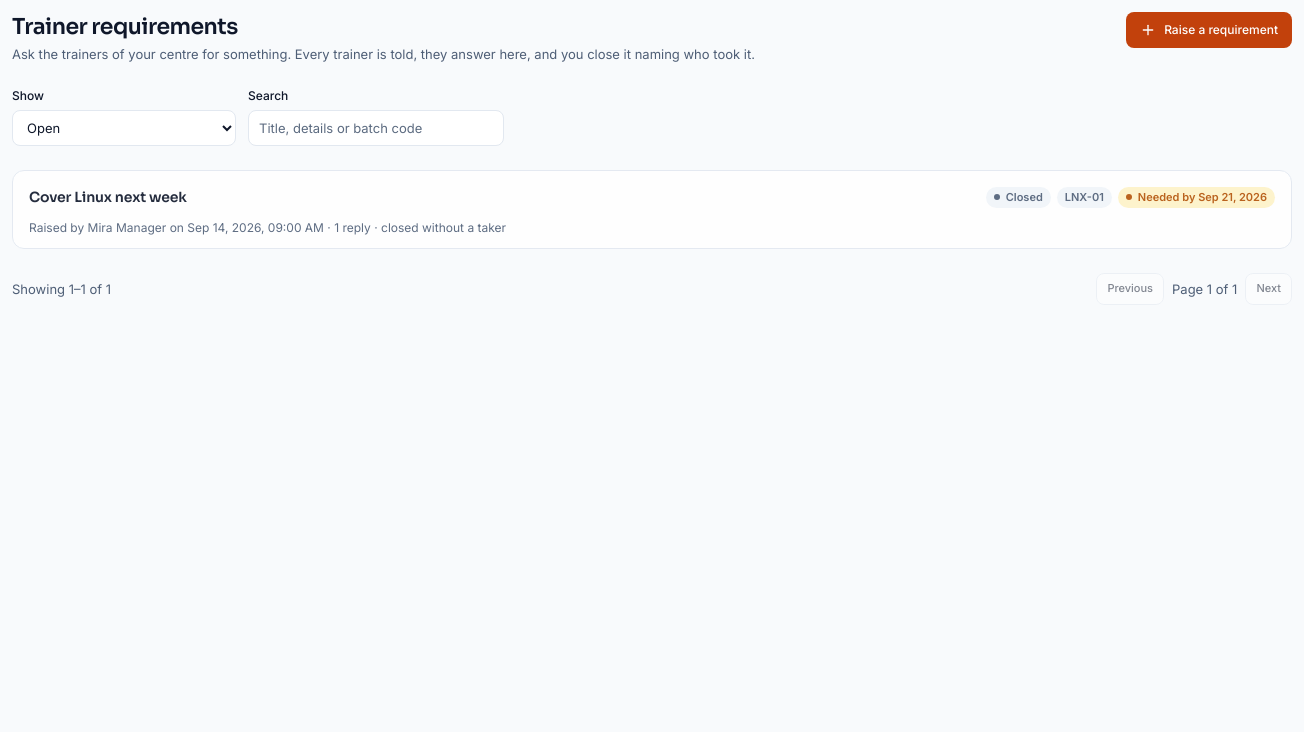
Test case: RequirementsBoard › shows a settled requirement without a reply box
Click the button "Cover Linux next week" at (108, 197), box [29,187,187,208]
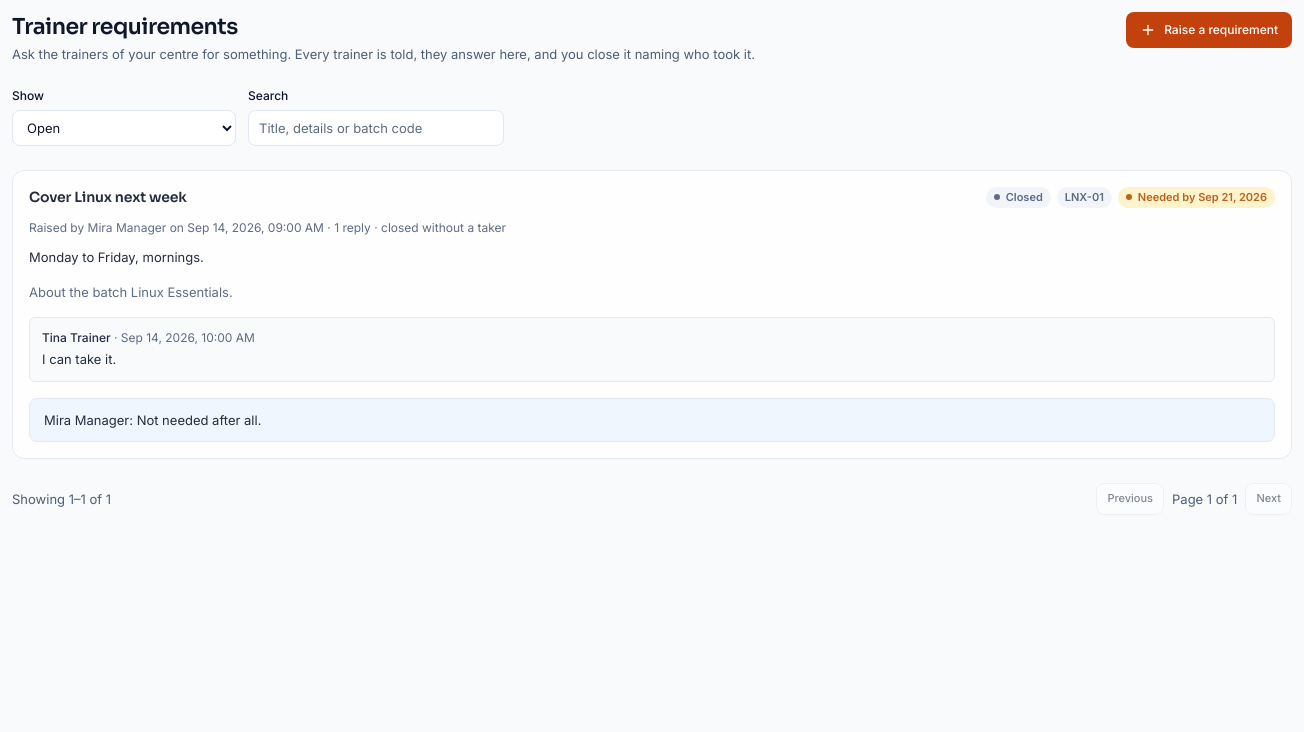
Check: the text "closed without a taker" is shown, box [371,220,506,235]
Check: the text "Mira Manager: Not needed after all." is shown, box [29,398,1275,442]
